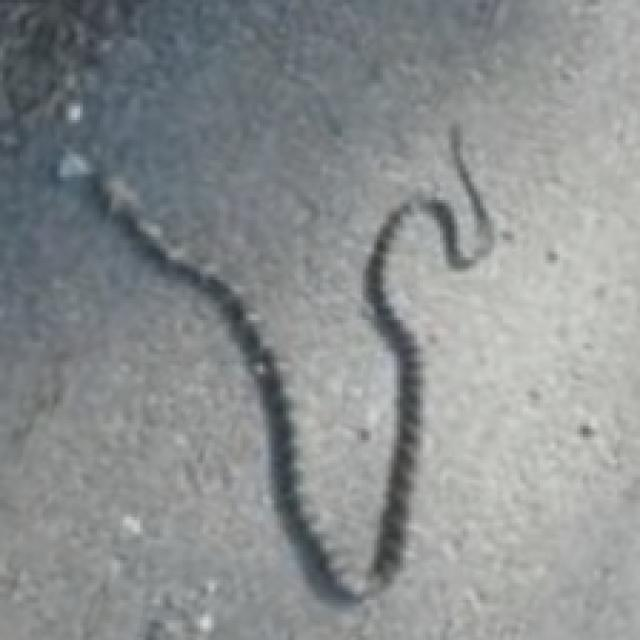king cobra: (0, 0, 511, 594), (97, 126, 491, 597)
